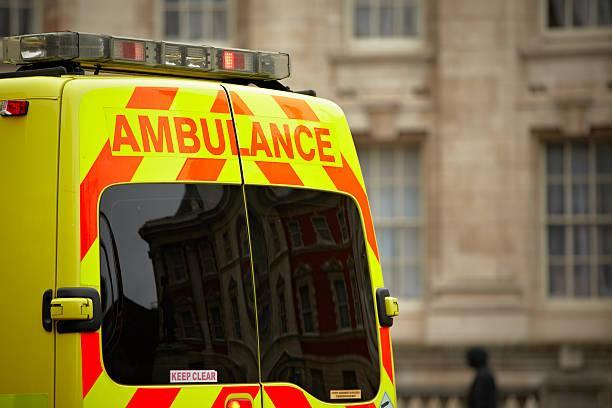Ambulance: (103, 107, 350, 172)
